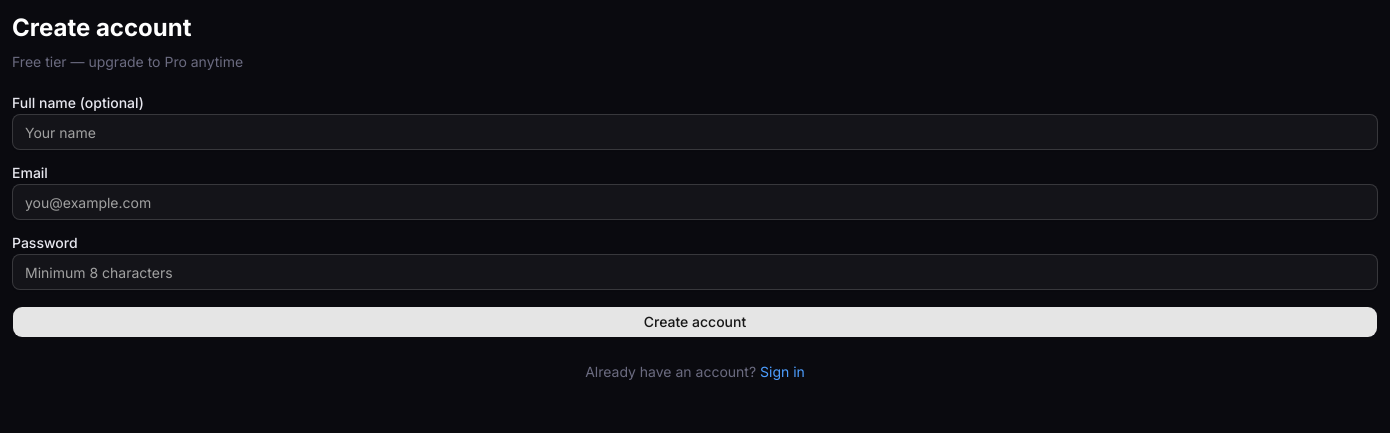
Test: shows error alert when email is already registered
The width and height of the screenshot is (1390, 433).
Type "existing@b.com" into the field labelled "Email" at {"x": 695, "y": 202}, box 12,184 -> 1378,220
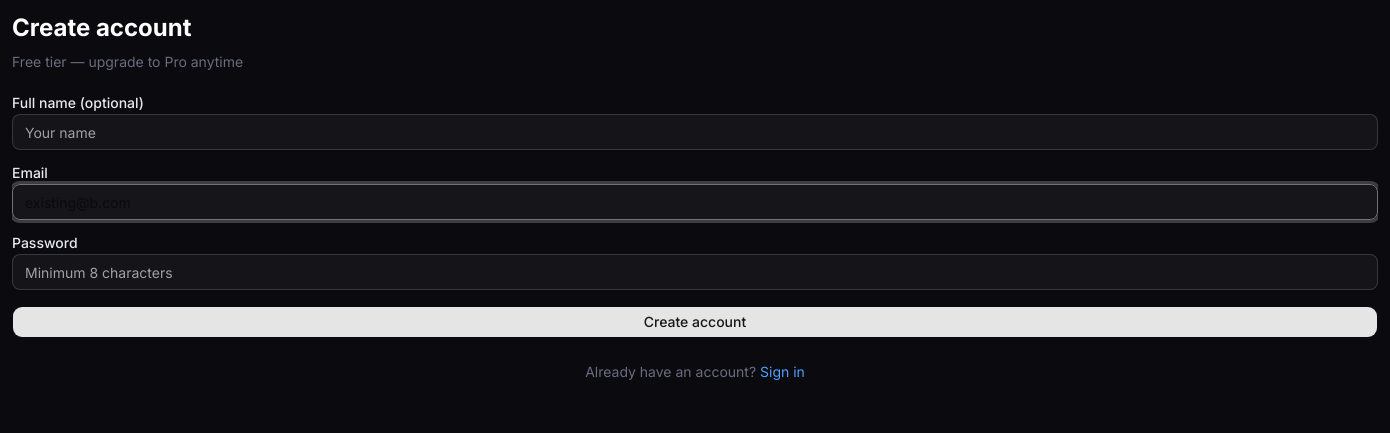
Type "password123" into the password field labelled "Password" at {"x": 695, "y": 272}, box 12,254 -> 1378,290
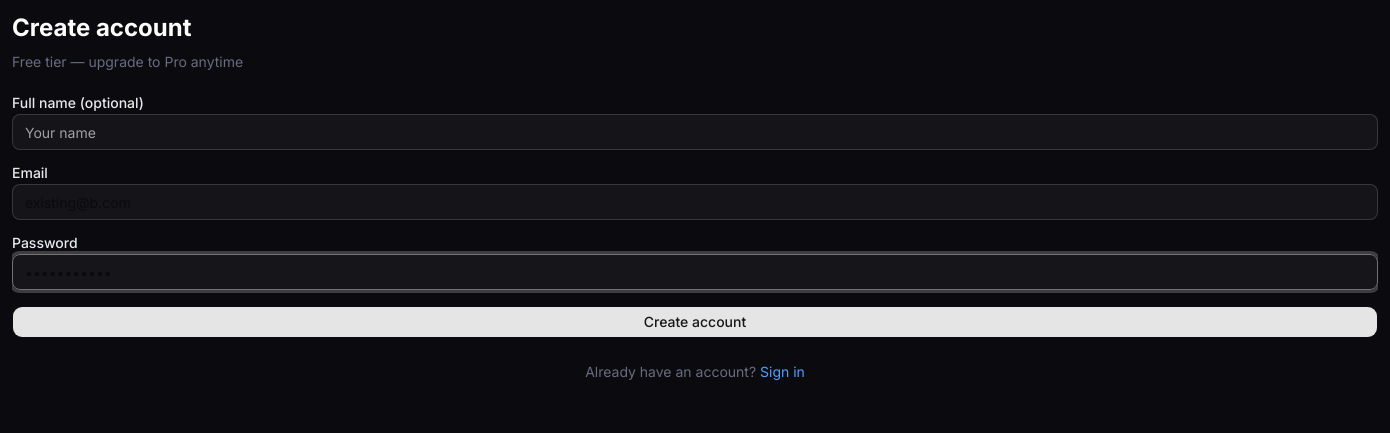
Click the button "Create account" at {"x": 695, "y": 322}, box 12,306 -> 1378,338
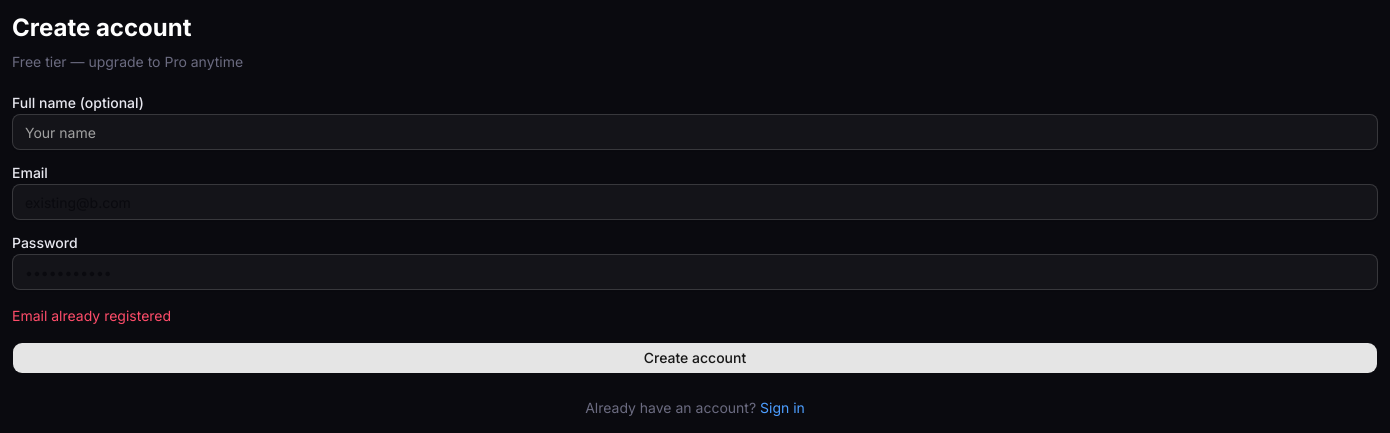
Check: the message reads "Email already registered", box 12,307 -> 171,324
